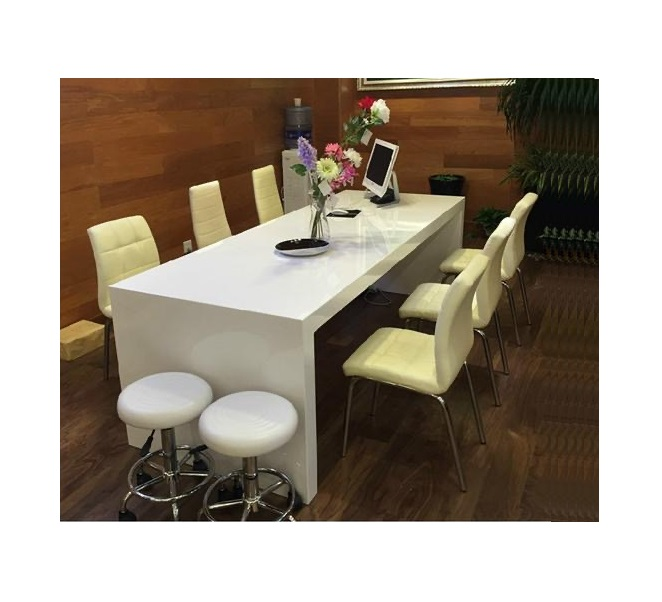conference_table: (110, 188, 465, 503)
